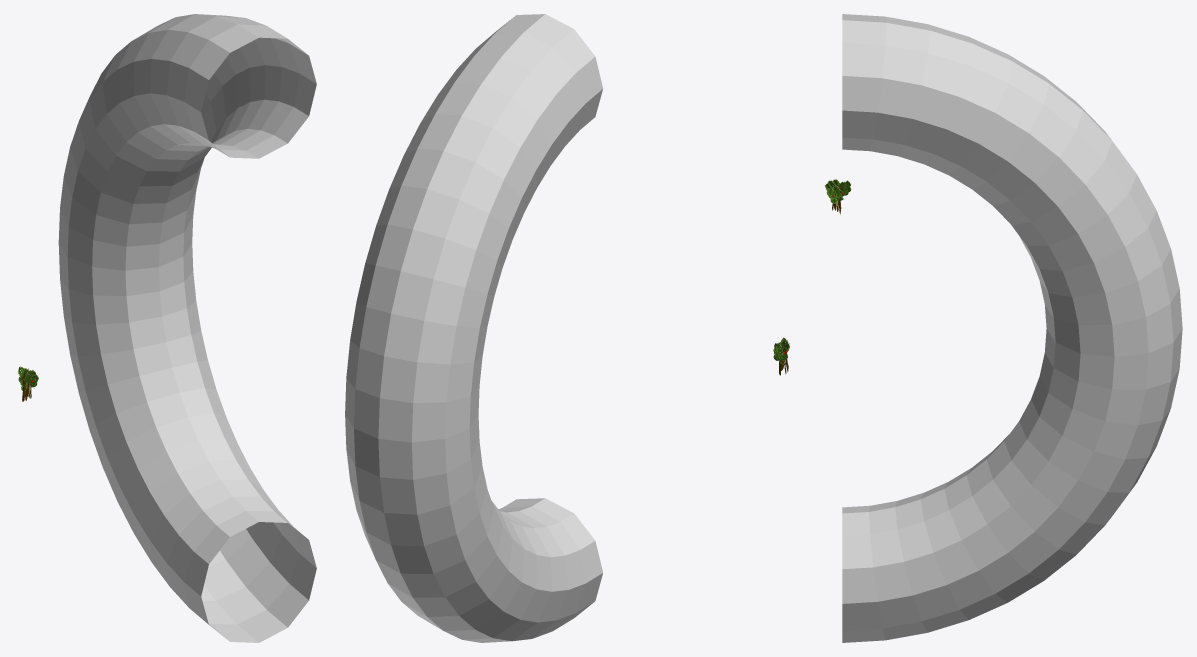
Rendered from Misseltoe.fbx.
The picture shows the model from 3 angles, left to right: view 1: azimuth 30°, elevation 25°; view 2: azimuth 150°, elevation 25°; view 3: azimuth 270°, elevation 25°; orthographic projection.
Parts seen in each view (by area): view 1: Torus.001; view 2: Torus.001; view 3: Torus.001.
Boxes of the visible parts, x1=… form: Torus.001: x1=58, y1=14, x2=316, y2=642; Torus.001: x1=345, y1=14, x2=603, y2=642; Torus.001: x1=842, y1=14, x2=1182, y2=642.
Bounding box in the file's own units: 130 × 250 × 133.
